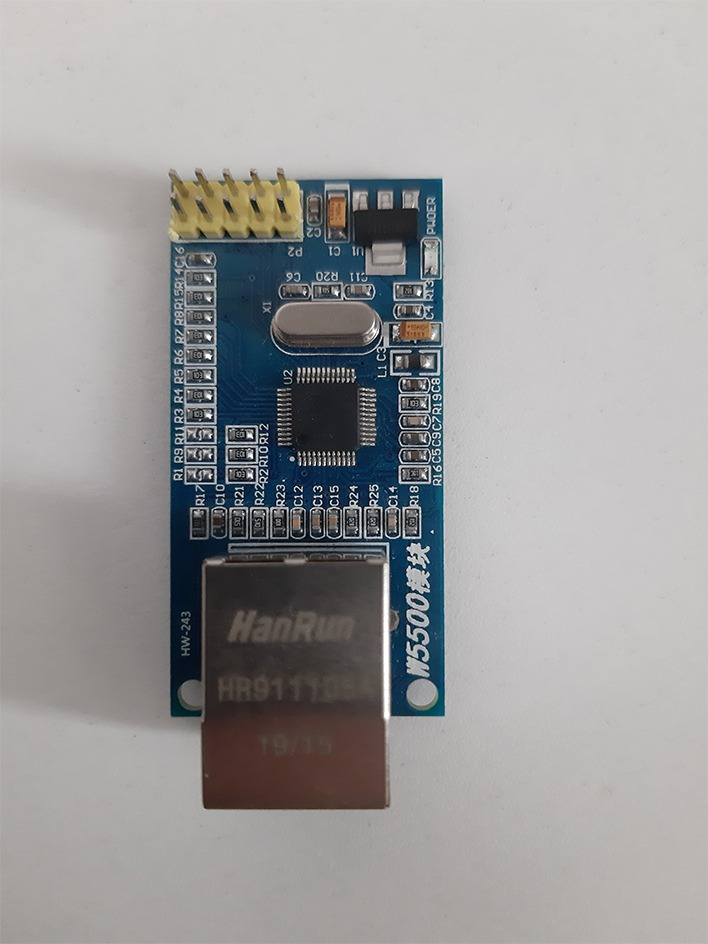Ethernet-W5500: (98, 138, 484, 852)
